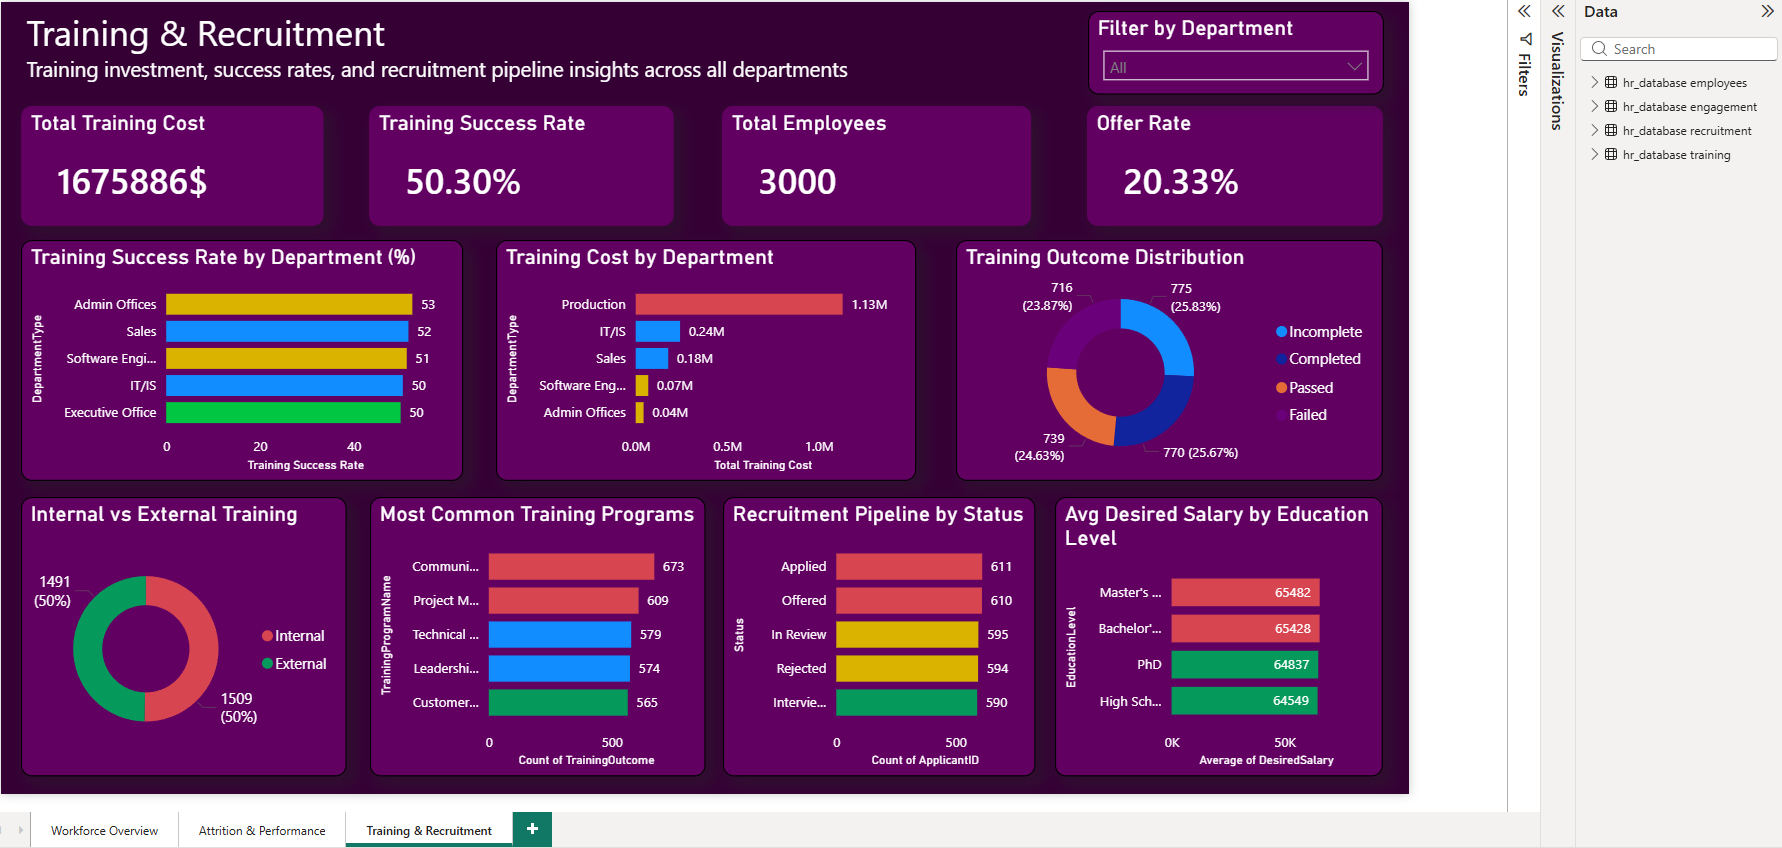

What the dashboard file says about the page in this screenshot:
{"tool":"powerbi","page":{"name":"Training & Recruitment","canvas":[1280,720],"ordinal":2},"visuals":[{"type":"textbox","box":[18,0,767,84],"z":0},{"type":"cardVisual","title":"Total Training Cost","fields":{"Data":["hr_database employees.Total Training Cost $"]},"box":[17.9,94.4,274.5,109.1],"z":1000},{"type":"cardVisual","title":"Training Success Rate","fields":{"Data":["hr_database employees.Training Success Rate %"]},"box":[334.3,94.4,277.3,109.1],"z":2000},{"type":"cardVisual","title":"Total Employees","fields":{"Data":["hr_database employees.Total Employees card"]},"box":[655.2,94.4,280.9,109.1],"z":3000},{"type":"cardVisual","title":"Offer Rate","fields":{"Data":["hr_database employees.Offer Rate %"]},"box":[987.5,94.8,268.8,109.4],"z":4000},{"type":"clusteredBarChart","title":"Training Success Rate by Department (%)","fields":{"Category":["hr_database employees.DepartmentType"],"Y":["hr_database employees.Training Success Rate"]},"box":[18,216,402,219],"z":5000},{"type":"clusteredBarChart","title":"Recruitment Pipeline by Status","fields":{"Category":["hr_database recruitment.Status"],"Y":["CountNonNull(hr_database recruitment.ApplicantID)"]},"box":[656,450,284,254],"z":6000},{"type":"clusteredBarChart","title":"Training Cost by Department","fields":{"Category":["hr_database employees.DepartmentType"],"Y":["hr_database employees.Total Training Cost"]},"box":[450,216,382,219],"z":8000},{"type":"clusteredBarChart","title":"Most Common Training Programs","fields":{"Category":["hr_database training.TrainingProgramName"],"Y":["CountNonNull(hr_database training.TrainingOutcome)"]},"box":[335,450,305,254],"z":9000},{"type":"slicer","title":"Filter by Department","fields":{"Values":["hr_database employees.DepartmentType"]},"box":[988,8,269,76],"z":10000},{"type":"clusteredBarChart","title":"Avg Desired Salary by Education Level","fields":{"Category":["hr_database recruitment.EducationLevel"],"Y":["Avg(hr_database recruitment.DesiredSalary)"]},"box":[958,450,298,254],"z":11000},{"type":"donutChart","title":"Training Outcome Distribution","fields":{"Category":["hr_database training.TrainingOutcome"],"Y":["CountNonNull(hr_database training.TrainingOutcome)"]},"box":[868,216,388,219],"z":12000},{"type":"donutChart","title":"Internal vs External Training","fields":{"Category":["hr_database training.TrainingType"],"Y":["CountNonNull(hr_database training.TrainingOutcome)"]},"box":[18,450,296,254],"z":13000}]}

Visuals, with their boxes on the page's 1280x720 design canvas (x1, y1, x2, y2). These are canvas units, not pixel positions in the 1782x848 screenshot, which may show the page scaled, cropped or inside an application window:
textbox: 18, 0, 785, 84
"Total Training Cost" cardVisual: 18, 94, 292, 204
"Training Success Rate" cardVisual: 334, 94, 612, 204
"Total Employees" cardVisual: 655, 94, 936, 204
"Offer Rate" cardVisual: 988, 95, 1256, 204
"Training Success Rate by Department (%)" clusteredBarChart: 18, 216, 420, 435
"Recruitment Pipeline by Status" clusteredBarChart: 656, 450, 940, 704
"Training Cost by Department" clusteredBarChart: 450, 216, 832, 435
"Most Common Training Programs" clusteredBarChart: 335, 450, 640, 704
"Filter by Department" slicer: 988, 8, 1257, 84
"Avg Desired Salary by Education Level" clusteredBarChart: 958, 450, 1256, 704
"Training Outcome Distribution" donutChart: 868, 216, 1256, 435
"Internal vs External Training" donutChart: 18, 450, 314, 704
